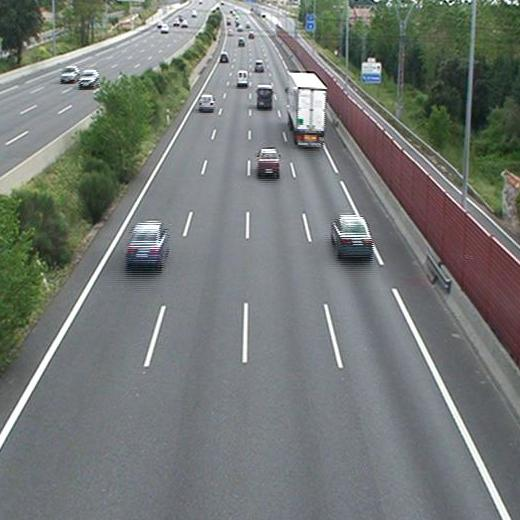car: (126, 223, 166, 263), (332, 216, 371, 254), (258, 149, 280, 173), (198, 95, 214, 109), (254, 60, 264, 71), (219, 53, 227, 62), (238, 38, 246, 47)
truck: (288, 73, 326, 145)
van: (257, 86, 272, 106), (237, 71, 249, 86)
